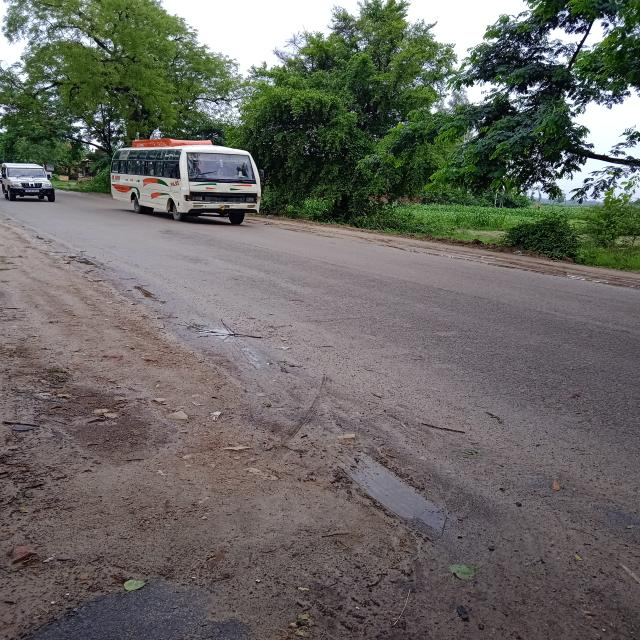Bus: (93, 135, 290, 225)
Car: (0, 157, 70, 209)
